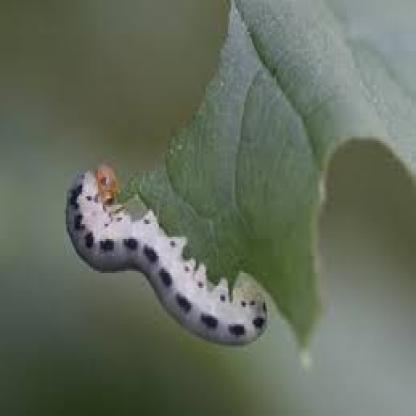sawfly: (65, 158, 273, 360)
